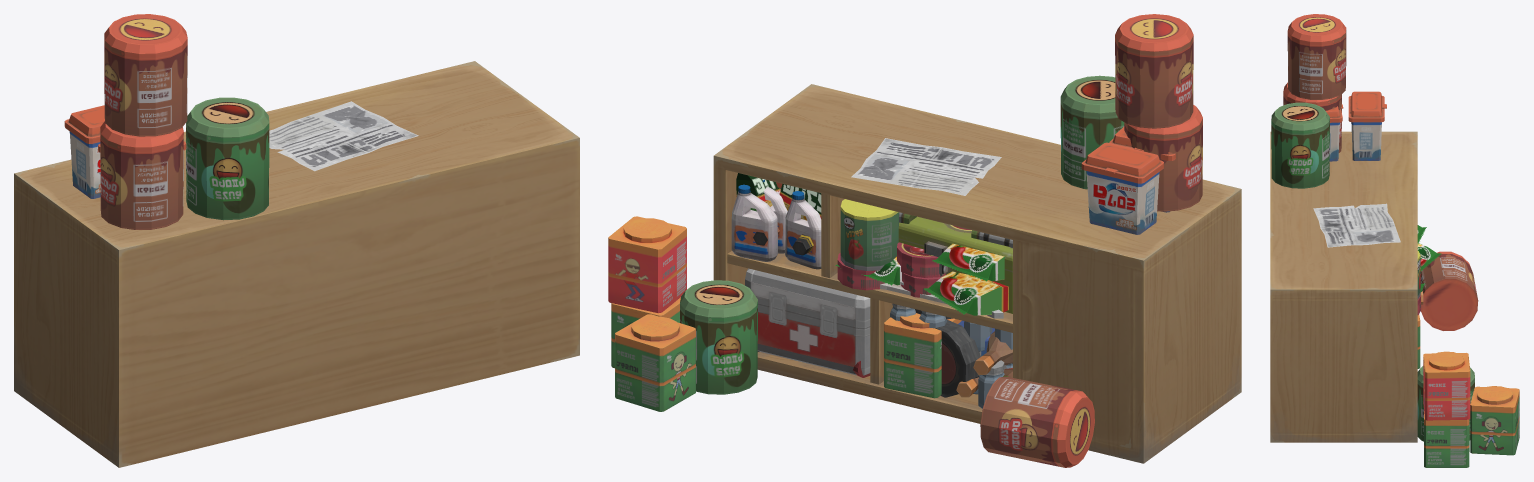
File: P_Cabinet_021_S1_M01.obj
The picture shows the model from 3 angles, left to right: view 1: azimuth 30°, elevation 25°; view 2: azimuth 150°, elevation 25°; view 3: azimuth 270°, elevation 25°; orthographic projection. The views are drawn at different scales.
Bounding box in the file's own units: 2.32 × 1.65 × 1.32.
121 materials, 121 textured.
